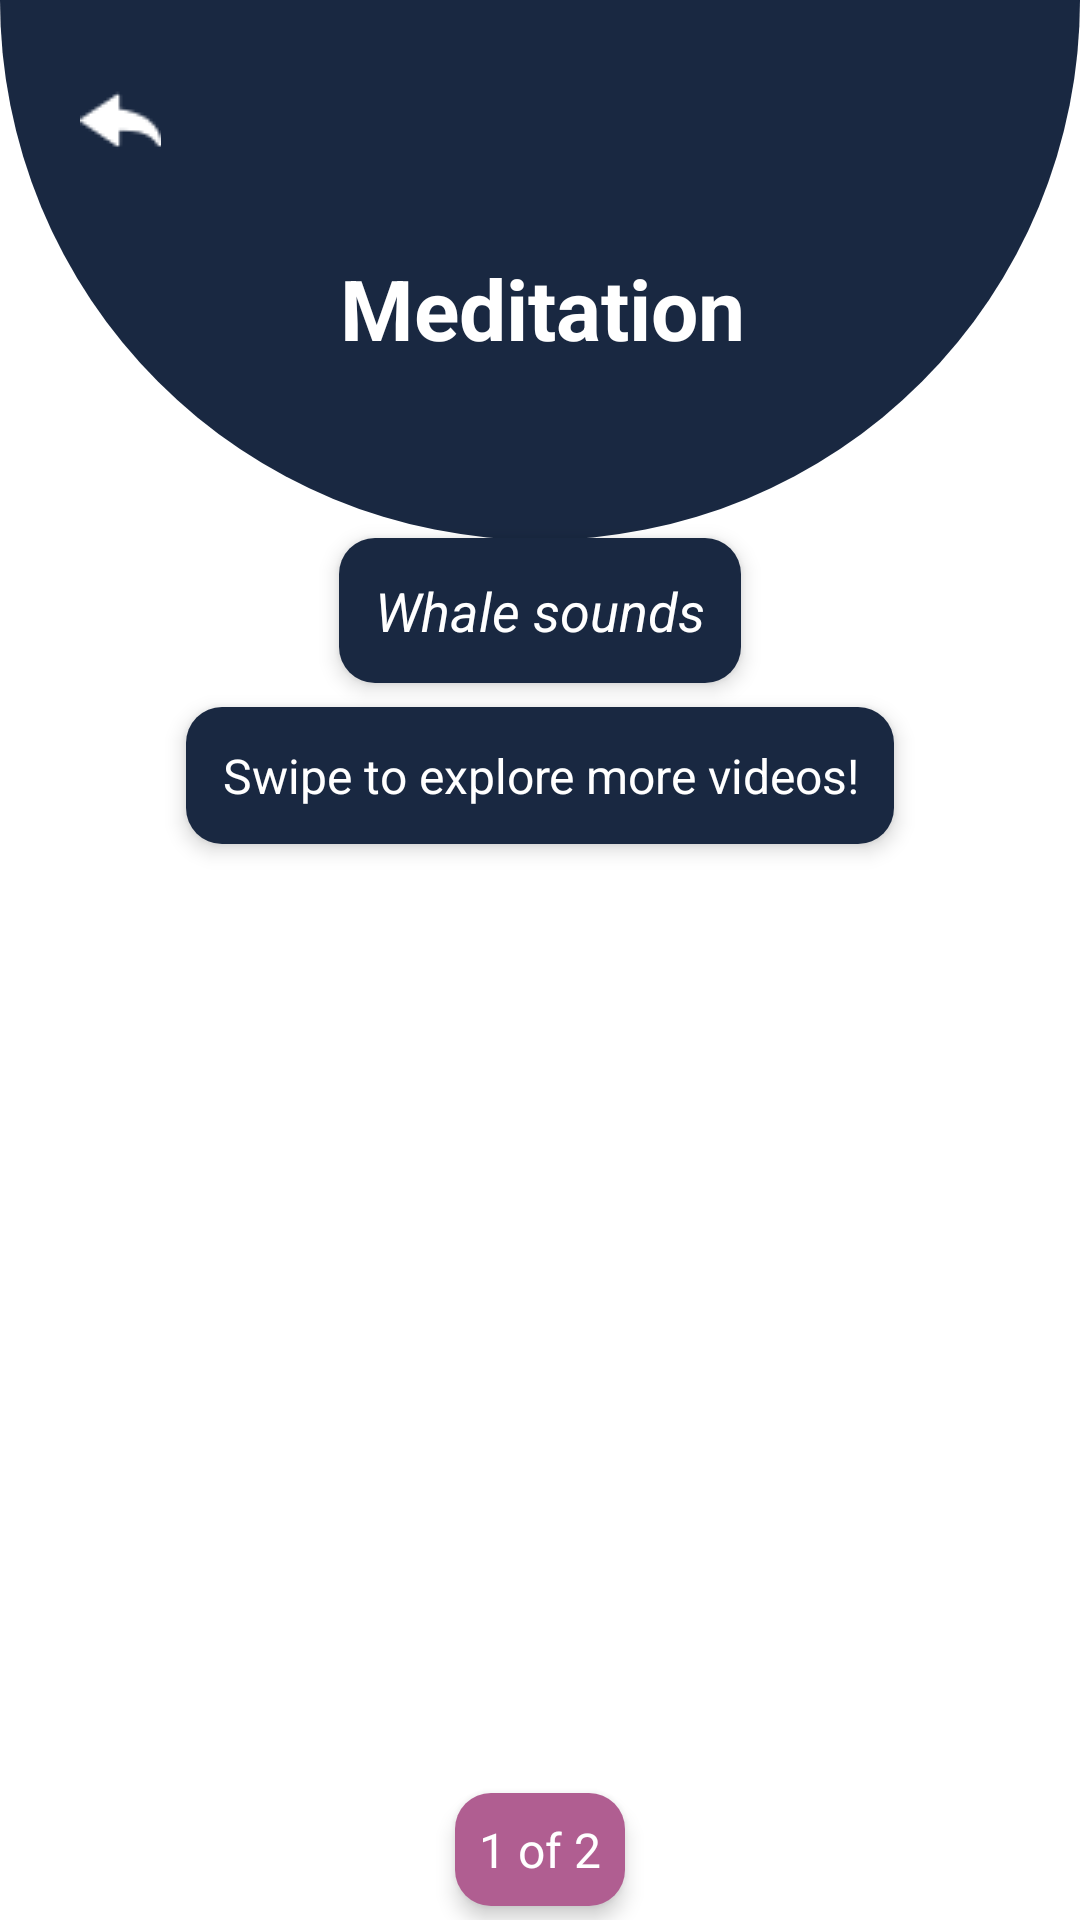

Named icons in this screenshot (1080*1920) and their bounding boxes, (x1, y1, x2, y2):
Back Button: (80, 93, 161, 147)
